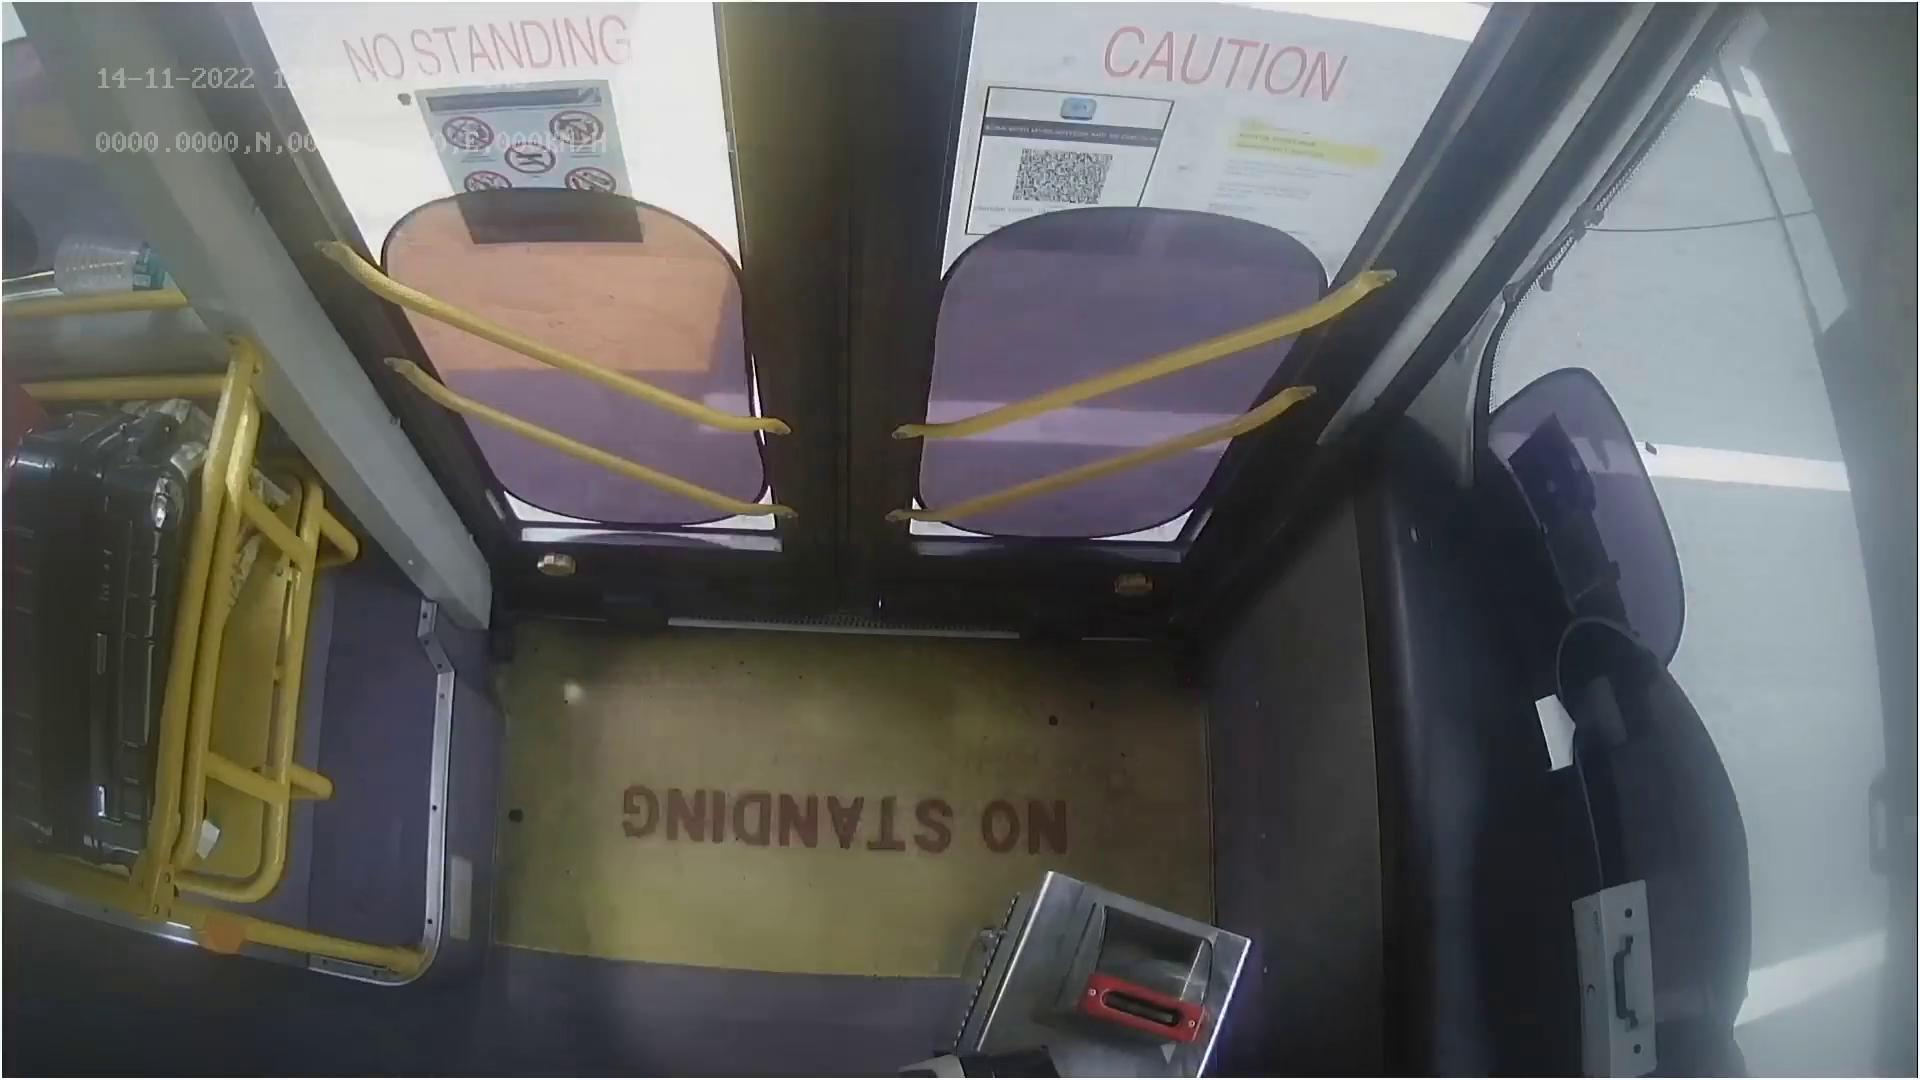close: (285, 0, 1440, 165)
